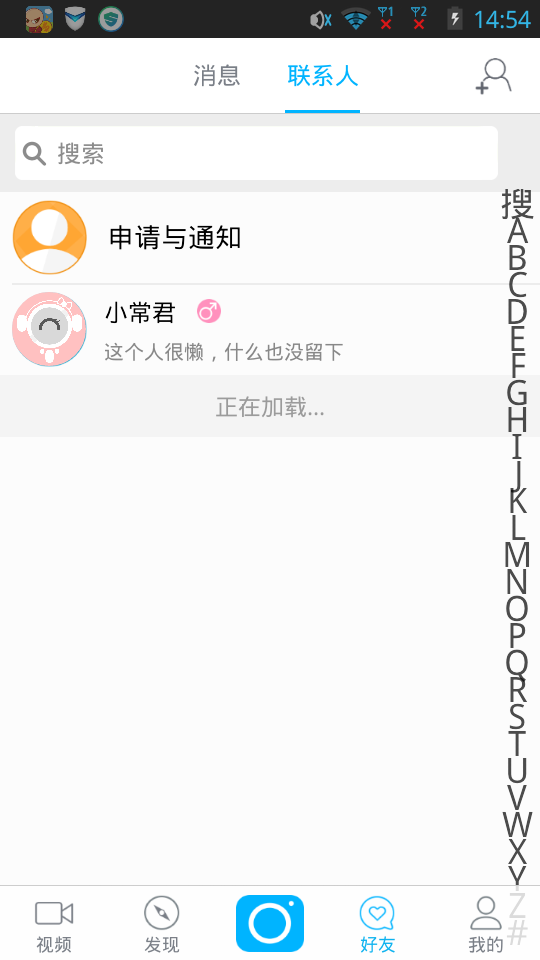imgbutton: (461, 54, 528, 101)
nav: (3, 881, 520, 960)
textview: (12, 123, 505, 184)
